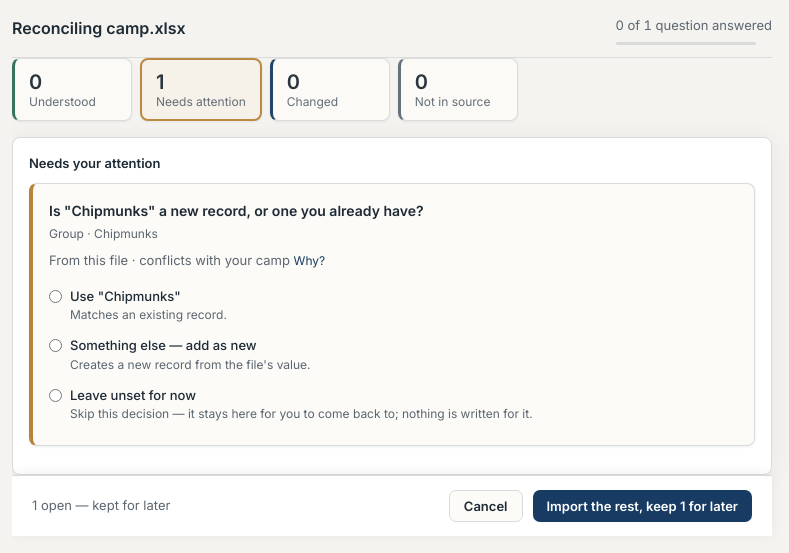
it: held-identity: remember this alias (confirmAlias) › shows a default-checked "remember" checkbox only after choosing an existing candidate
Expected: the text "0 of 1 question answered" is shown, x1=616 y1=16 x2=772 y2=36
Click the text "Use \"Chipmunks\"" at (125, 296), box x1=70 y1=288 x2=181 y2=304
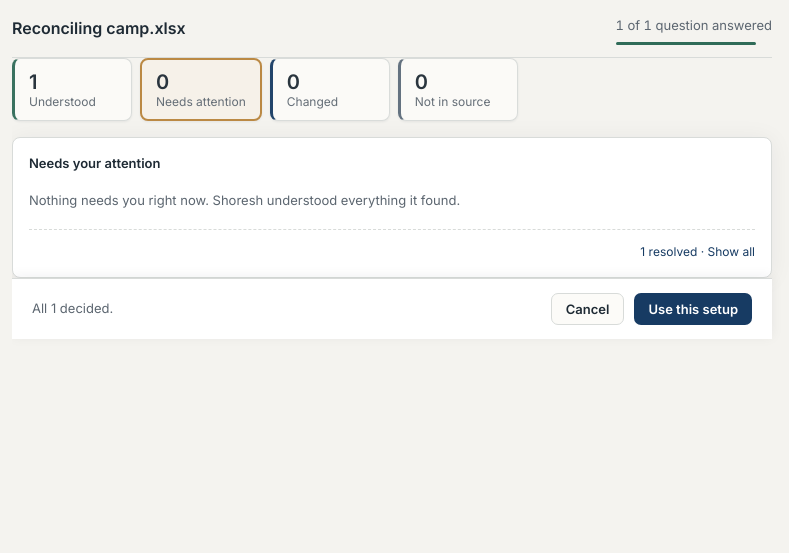
Now the button "1 resolved · Show all" is shown
Click the button "1 resolved · Show all" at (698, 251), box x1=640 y1=244 x2=755 y2=258
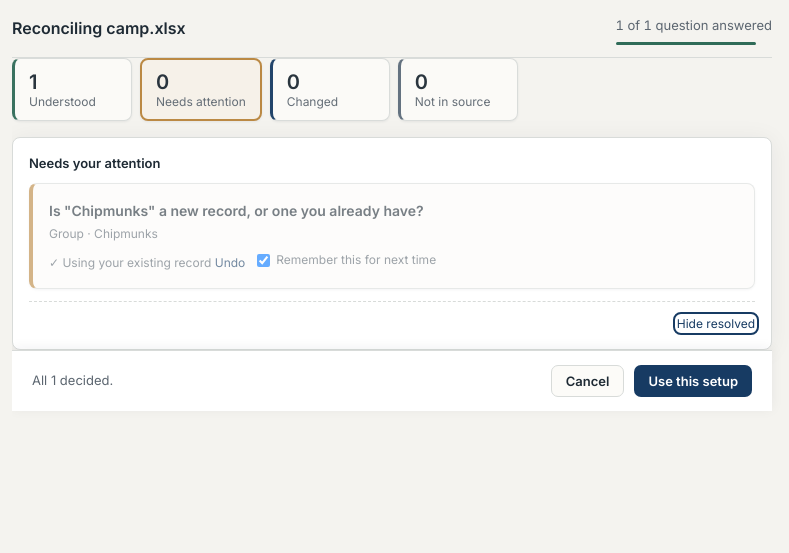
Now the checkbox is checked, box x1=257 y1=254 x2=270 y2=266
